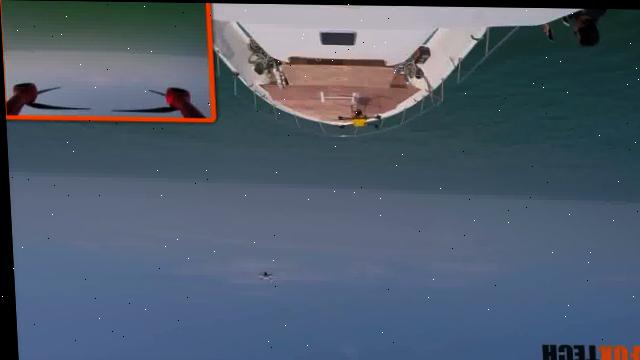drone: (322, 109, 394, 144), (248, 264, 276, 284)
